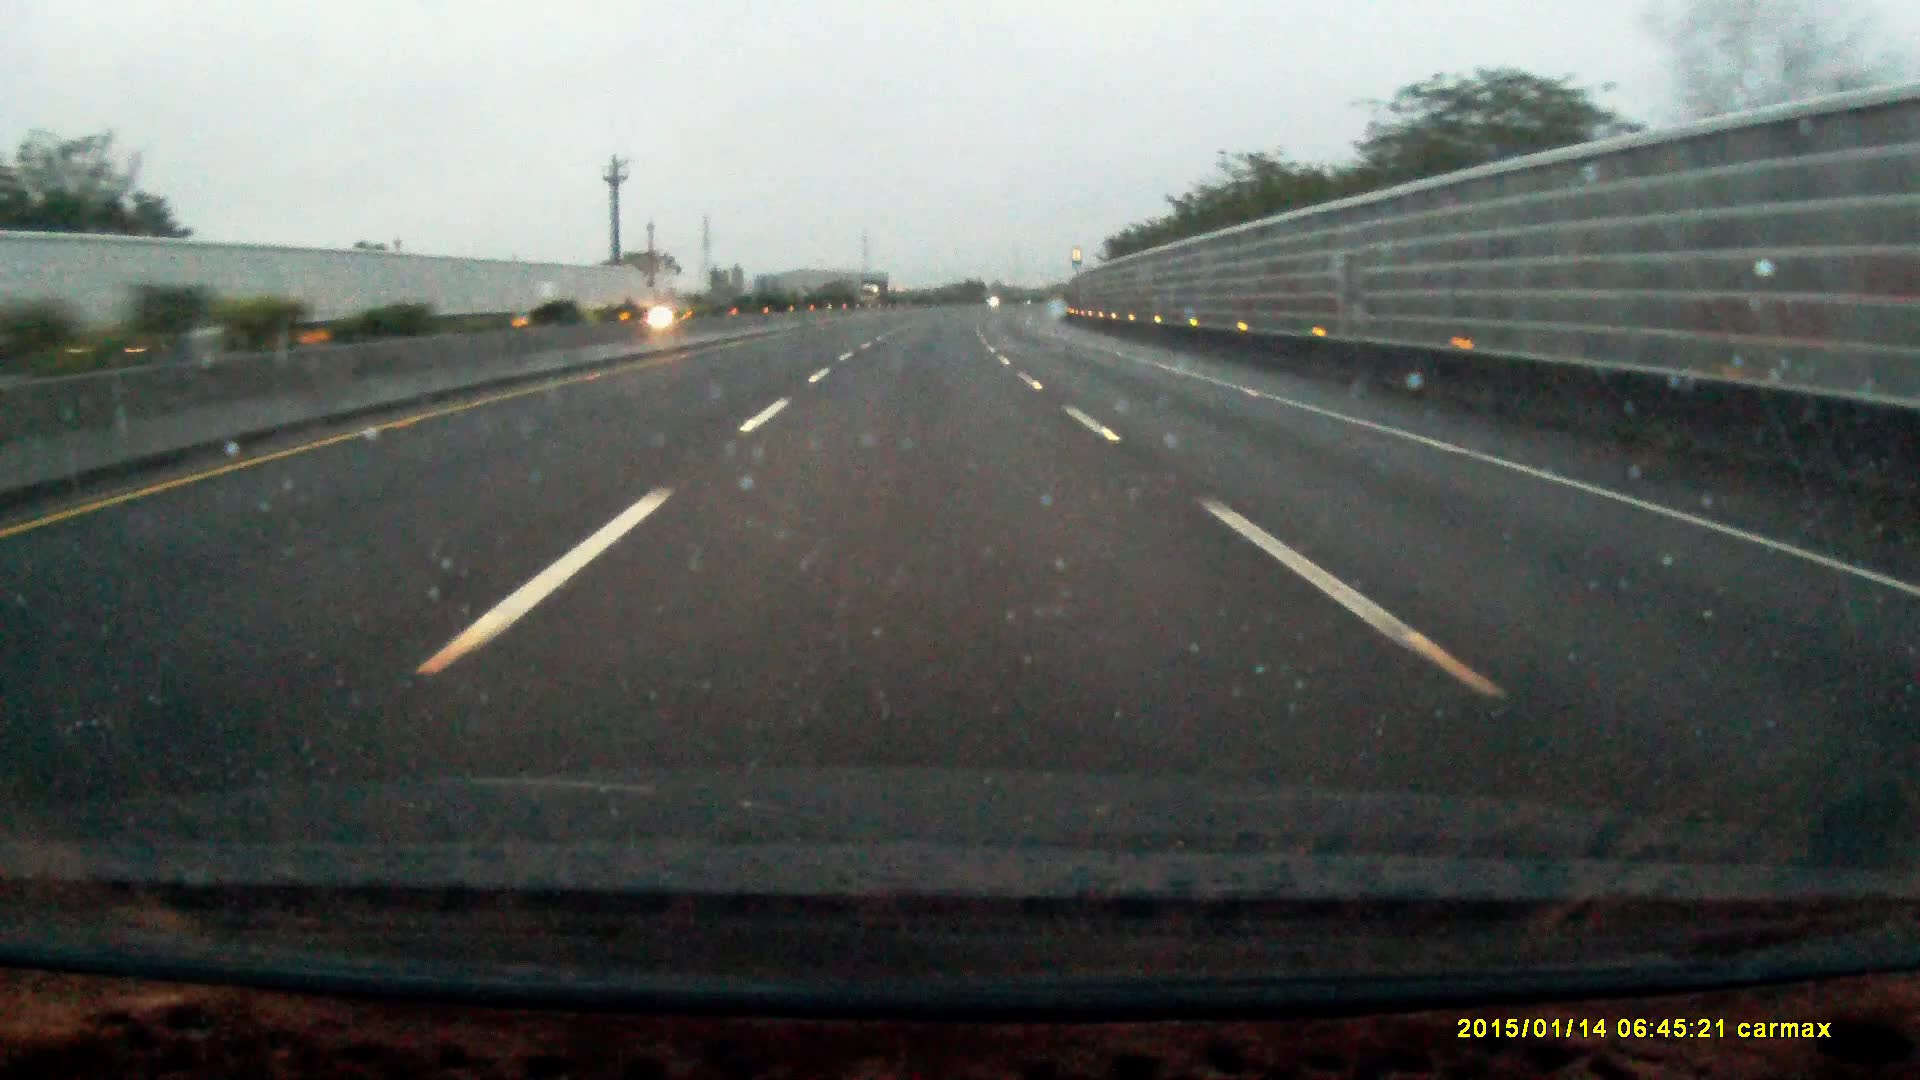vehicle: (861, 277, 891, 305)
